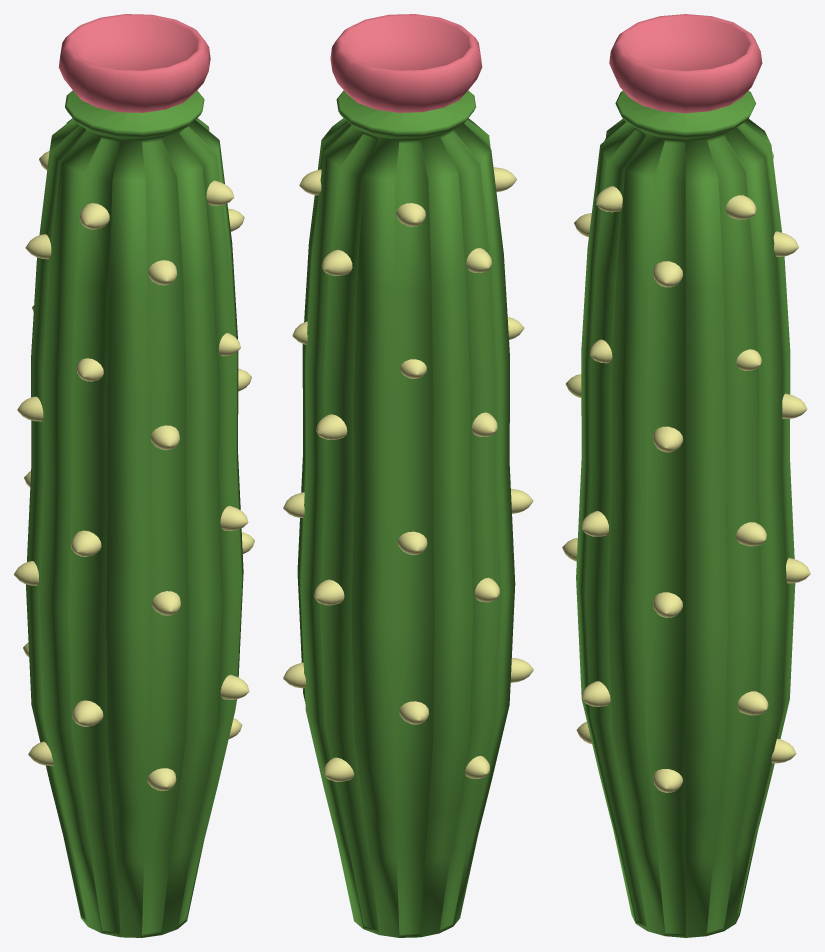
Rendered from Cactus_stage_03.fbx.
The picture shows the model from 3 angles, left to right: view 1: azimuth 30°, elevation 25°; view 2: azimuth 150°, elevation 25°; view 3: azimuth 270°, elevation 25°; orthographic projection.
Visible parts, largest first — view 1: stage_03; view 2: stage_03; view 3: stage_03.
Boxes of the visible parts, left/top/right/bottom form: stage_03: left=14, top=14, right=254, bottom=937; stage_03: left=283, top=14, right=533, bottom=937; stage_03: left=562, top=14, right=810, bottom=937.
Bounding box in the file's own units: 52.44 × 203 × 52.33.
